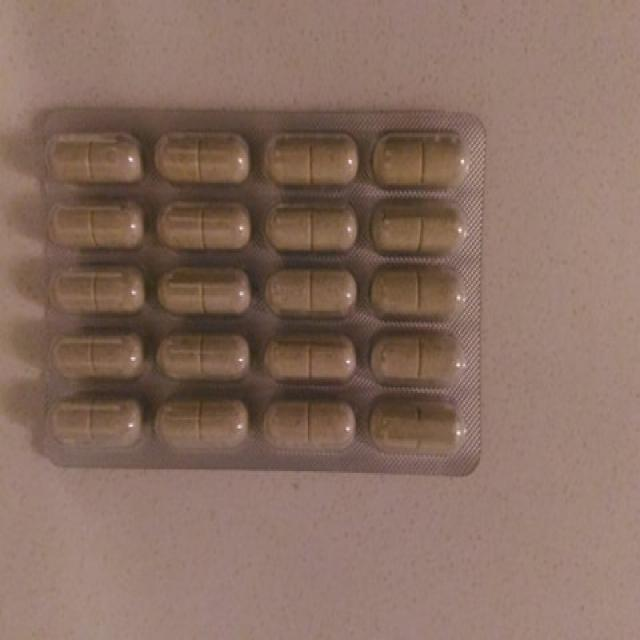Pill: (366, 123, 478, 196), (364, 330, 473, 395), (256, 399, 365, 464), (362, 261, 470, 326), (38, 127, 148, 189), (149, 128, 253, 192), (260, 124, 361, 188), (153, 261, 257, 320), (44, 393, 144, 454), (151, 328, 255, 386), (360, 404, 471, 458), (153, 397, 250, 458), (259, 261, 358, 320), (39, 198, 147, 252), (259, 334, 360, 391), (258, 198, 360, 254), (153, 197, 253, 254), (366, 202, 469, 257), (50, 257, 144, 315), (43, 328, 147, 380)
